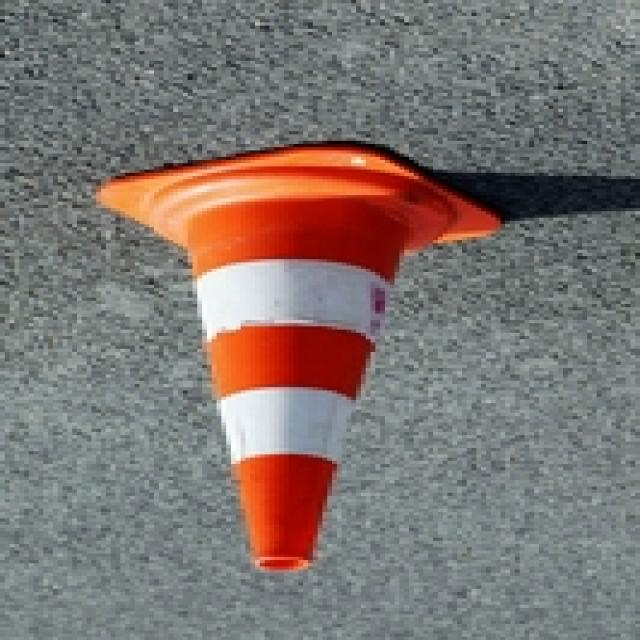cone: (147, 134, 486, 598)
